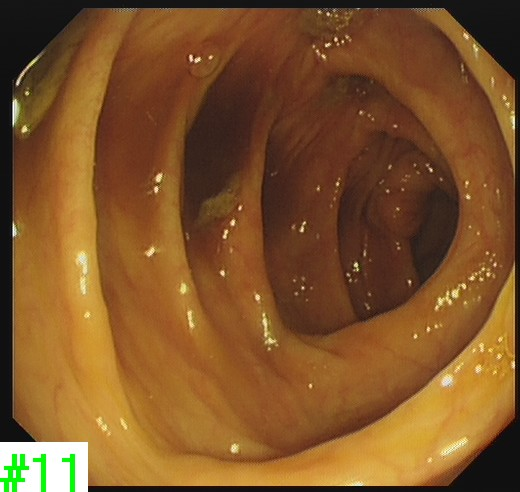adenoma: (370, 151, 433, 238)
